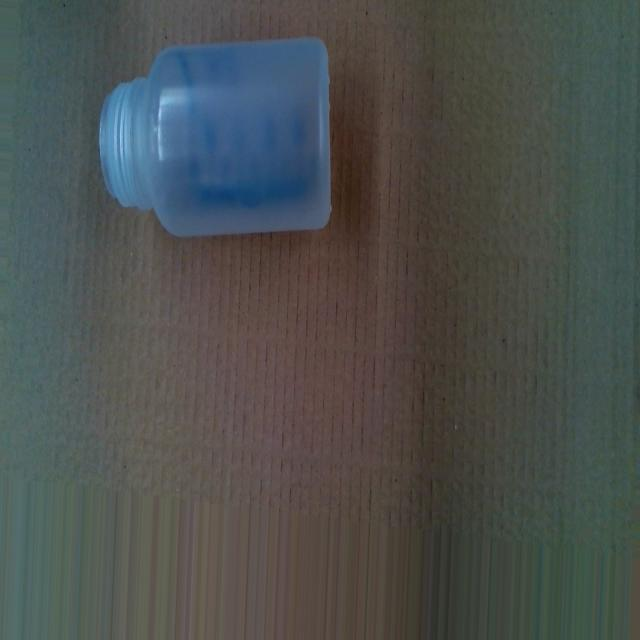bottle: (92, 33, 341, 242)
